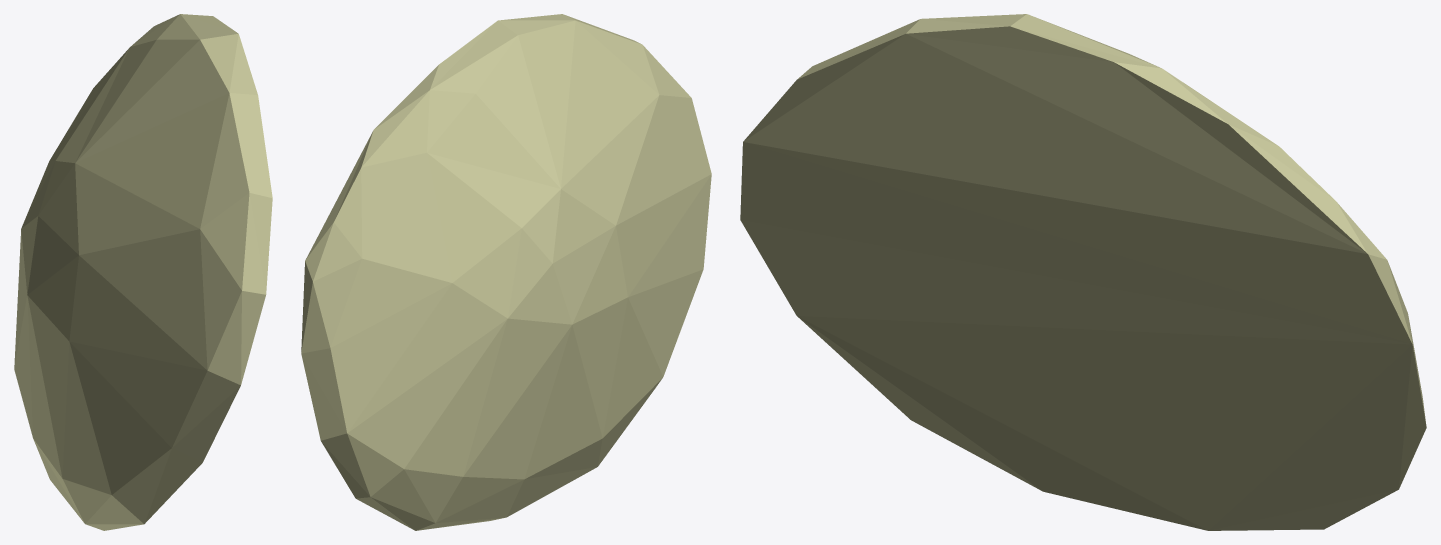
The model's file is eye_l.dae.
3 views of the same model, side by side, from view 1: azimuth 30°, elevation 25°; view 2: azimuth 150°, elevation 25°; view 3: azimuth 270°, elevation 25° (orthographic). The views are drawn at different scales.
Parts seen in each view (by area): view 1: ant-eye-left; view 2: ant-eye-left; view 3: ant-eye-left.
Part boxes in pixels (<box>): ant-eye-left: <box>14,14,272,530</box>; ant-eye-left: <box>301,14,711,530</box>; ant-eye-left: <box>740,14,1426,530</box>.
Size of the model in its own units: 0.415 by 1 by 0.8842.
